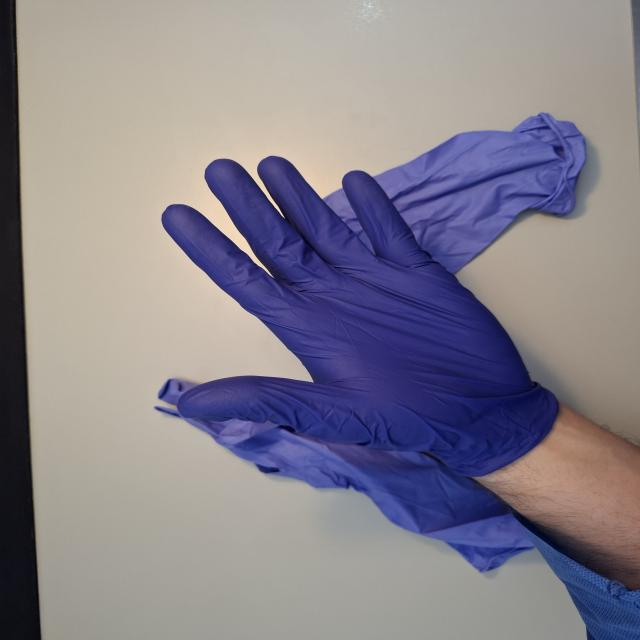glove_on: (158, 154, 546, 478)
